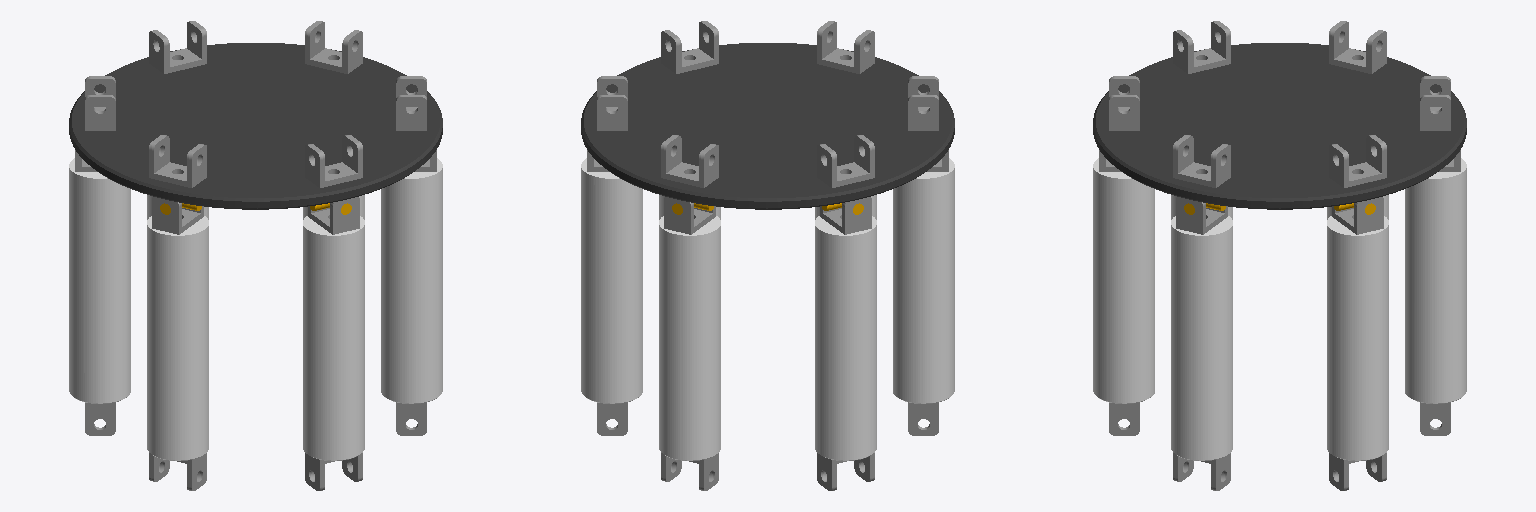
The robot description file, URDF, robot "stewart":
<?xml version="1.0"?>

<robot name="stewart">
  
  <!-- *************************************************** -->
  <!-- ******************** Kinematics ******************* -->
  <!-- *************************************************** -->
  <!-- Note the 'origin' tag in the joints defines the
       shift and reorientation before the continuous joint
       rotates around the 'axis'. -->

  <link name="world">
    <visual>
      <origin rpy="3.14159 0 0" xyz="0 0 0"/>
      <geometry>
        <mesh filename="package://finalprojectcode/meshes/Platform_Top.dae"/>
      </geometry>
    </visual>
  </link>

# LEG 1
  <joint name="leg1-pitch" type="continuous">
    <parent link="world"/>
    <child  link="leg1-uj-shaft"/>
    <origin xyz="0 1.25 -0.2" rpy="0 0 0"/>
    <axis   xyz="1 0 0"/>
  </joint>

  <link name="leg1-uj-shaft">
    <visual>
      <origin rpy="0 0 0" xyz="0 0 0"/>
      <geometry>
        <mesh filename="package://finalprojectcode/meshes/UJ_Shaft.dae"/>
      </geometry>
    </visual>
  </link>


  <joint name="leg1-roll" type="continuous">
    <parent link="leg1-uj-shaft"/>
    <child  link="leg1-slider-base"/>
    <origin xyz="0 0 0" rpy="0 0 0"/>
    <axis   xyz="0 1 0"/>
  </joint>

  <link name="leg1-slider-base">
    <visual>
      <origin rpy="3.14159 0 0" xyz="0 0 0"/>
      <geometry>
        <mesh filename="package://finalprojectcode/meshes/Slider_Base.dae"/>
      </geometry>
    </visual>
  </link>

  <joint name="leg1-prismatic" type="prismatic">
    <parent link="leg1-slider-base"/>
    <child  link="leg1-slider-shaft"/>
    <origin xyz="0 0 -0.4" rpy="0 0 0"/>
    <limit effort="1000.0" lower="0" upper="1.5" velocity="0.5"/>
    <axis   xyz="0 0 -1"/>
  </joint>

  <link name="leg1-slider-shaft">
    <visual>
      <origin rpy="3.14159 0 0" xyz="0 0 0"/>
      <geometry>
        <mesh filename="package://finalprojectcode/meshes/Slider_Shaft.dae"/>
      </geometry>
    </visual>
  </link>

  <joint name="leg1-to-tip" type="fixed">
    <parent link="leg1-slider-shaft"/>
    <child  link="leg1-tip"/>
    <origin xyz="0 0 0" rpy="0 0 0"/>
  </joint>

  <link name="leg1-tip"/>

##### LEG 2 #####

# -sin 60 sin 60 = x y
# rotate 60 deg for joint
  <joint name="leg2-pitch" type="continuous">
    <parent link="world"/>
    <child  link="leg2-uj-shaft"/>
    <origin xyz="-1.08253 0.625 -0.2" rpy="0 0 1.04719"/>
    <axis   xyz="1 0 0"/>
  </joint>

  <link name="leg2-uj-shaft">
    <visual>
      <origin rpy="0 0 0" xyz="0 0 0"/>
      <geometry>
        <mesh filename="package://finalprojectcode/meshes/UJ_Shaft.dae"/>
      </geometry>
    </visual>
  </link>


  <joint name="leg2-roll" type="continuous">
    <parent link="leg2-uj-shaft"/>
    <child  link="leg2-slider-base"/>
    <origin xyz="0 0 0" rpy="0 0 0"/>
    <axis   xyz="0 1 0"/>
  </joint>

  <link name="leg2-slider-base">
    <visual>
      <origin rpy="3.14159 0 0" xyz="0 0 0"/>
      <geometry>
        <mesh filename="package://finalprojectcode/meshes/Slider_Base.dae"/>
      </geometry>
    </visual>
  </link>

  <joint name="leg2-prismatic" type="prismatic">
    <parent link="leg2-slider-base"/>
    <child  link="leg2-slider-shaft"/>
    <origin xyz="0 0 -0.4" rpy="0 0 0"/>
    <limit effort="1000.0" lower="0" upper="1.5" velocity="0.5"/>
    <axis   xyz="0 0 -1"/>
  </joint>

  <link name="leg2-slider-shaft">
    <visual>
      <origin rpy="3.14159 0 0" xyz="0 0 0"/>
      <geometry>
        <mesh filename="package://finalprojectcode/meshes/Slider_Shaft.dae"/>
      </geometry>
    </visual>
  </link>

  <joint name="leg2-to-tip" type="fixed">
    <parent link="leg2-slider-shaft"/>
    <child  link="leg2-tip"/>
    <origin xyz="0 0 0" rpy="0 0 0"/>
  </joint>

  <link name="leg2-tip"/>
  
  ##### LEG 3
  
  # cos(240) sin (240) = y
  # rotate 120
  <joint name="leg3-pitch" type="continuous">
    <parent link="world"/>
    <child  link="leg3-uj-shaft"/>
    <origin xyz="-1.08253 -0.625 -0.2" rpy="0 0 2.094395"/>
    <axis   xyz="1 0 0"/>
  </joint>

  <link name="leg3-uj-shaft">
    <visual>
      <origin rpy="0 0 0" xyz="0 0 0"/>
      <geometry>
        <mesh filename="package://finalprojectcode/meshes/UJ_Shaft.dae"/>
      </geometry>
    </visual>
  </link>


  <joint name="leg3-roll" type="continuous">
    <parent link="leg3-uj-shaft"/>
    <child  link="leg3-slider-base"/>
    <origin xyz="0 0 0" rpy="0 0 0"/>
    <axis   xyz="0 1 0"/>
  </joint>

  <link name="leg3-slider-base">
    <visual>
      <origin rpy="3.14159 0 0" xyz="0 0 0"/>
      <geometry>
        <mesh filename="package://finalprojectcode/meshes/Slider_Base.dae"/>
      </geometry>
    </visual>
  </link>

  <joint name="leg3-prismatic" type="prismatic">
    <parent link="leg3-slider-base"/>
    <child  link="leg3-slider-shaft"/>
    <origin xyz="0 0 -0.4" rpy="0 0 0"/>
    <limit effort="1000.0" lower="0" upper="1.5" velocity="0.5"/>
    <axis   xyz="0 0 -1"/>
  </joint>

  <link name="leg3-slider-shaft">
    <visual>
      <origin rpy="3.14159 0 0" xyz="0 0 0"/>
      <geometry>
        <mesh filename="package://finalprojectcode/meshes/Slider_Shaft.dae"/>
      </geometry>
    </visual>
  </link>

  <joint name="leg3-to-tip" type="fixed">
    <parent link="leg3-slider-shaft"/>
    <child  link="leg3-tip"/>
    <origin xyz="0 0 0" rpy="0 0 0"/>
  </joint>

  <link name="leg3-tip"/>
  
  ##### LEG 4
  
  # 1.25sin(180) 1.25cos (180) = y
  # rotate 0 / 180
  <joint name="leg4-pitch" type="continuous">
    <parent link="world"/>
    <child  link="leg4-uj-shaft"/>
    <origin xyz="0 -1.25 -0.2" rpy="0 0 0"/>
    <axis   xyz="1 0 0"/>
  </joint>

  <link name="leg4-uj-shaft">
    <visual>
      <origin rpy="0 0 0" xyz="0 0 0"/>
      <geometry>
        <mesh filename="package://finalprojectcode/meshes/UJ_Shaft.dae"/>
      </geometry>
    </visual>
  </link>


  <joint name="leg4-roll" type="continuous">
    <parent link="leg4-uj-shaft"/>
    <child  link="leg4-slider-base"/>
    <origin xyz="0 0 0" rpy="0 0 0"/>
    <axis   xyz="0 1 0"/>
  </joint>

  <link name="leg4-slider-base">
    <visual>
      <origin rpy="3.14159 0 0" xyz="0 0 0"/>
      <geometry>
        <mesh filename="package://finalprojectcode/meshes/Slider_Base.dae"/>
      </geometry>
    </visual>
  </link>

  <joint name="leg4-prismatic" type="prismatic">
    <parent link="leg4-slider-base"/>
    <child  link="leg4-slider-shaft"/>
    <origin xyz="0 0 -0.4" rpy="0 0 0"/>
    <limit effort="1000.0" lower="0" upper="1.5" velocity="0.5"/>
    <axis   xyz="0 0 -1"/>
  </joint>

  <link name="leg4-slider-shaft">
    <visual>
      <origin rpy="3.14159 0 0" xyz="0 0 0"/>
      <geometry>
        <mesh filename="package://finalprojectcode/meshes/Slider_Shaft.dae"/>
      </geometry>
    </visual>
  </link>

  <joint name="leg4-to-tip" type="fixed">
    <parent link="leg4-slider-shaft"/>
    <child  link="leg4-tip"/>
    <origin xyz="0 0 0" rpy="0 0 0"/>
  </joint>

  <link name="leg4-tip"/>

  ##### LEG 5
  
  # 1.25sin(120) 1.25cos (120) = y
  # rotate 60
  <joint name="leg5-pitch" type="continuous">
    <parent link="world"/>
    <child  link="leg5-uj-shaft"/>
    <origin xyz="1.0825317 -0.625 -0.2" rpy="0 0 1.047197"/>
    <axis   xyz="1 0 0"/>
  </joint>

  <link name="leg5-uj-shaft">
    <visual>
      <origin rpy="0 0 0" xyz="0 0 0"/>
      <geometry>
        <mesh filename="package://finalprojectcode/meshes/UJ_Shaft.dae"/>
      </geometry>
    </visual>
  </link>


  <joint name="leg5-roll" type="continuous">
    <parent link="leg5-uj-shaft"/>
    <child  link="leg5-slider-base"/>
    <origin xyz="0 0 0" rpy="0 0 0"/>
    <axis   xyz="0 1 0"/>
  </joint>

  <link name="leg5-slider-base">
    <visual>
      <origin rpy="3.14159 0 0" xyz="0 0 0"/>
      <geometry>
        <mesh filename="package://finalprojectcode/meshes/Slider_Base.dae"/>
      </geometry>
    </visual>
  </link>

  <joint name="leg5-prismatic" type="prismatic">
    <parent link="leg5-slider-base"/>
    <child  link="leg5-slider-shaft"/>
    <origin xyz="0 0 -0.4" rpy="0 0 0"/>
    <limit effort="1000.0" lower="0" upper="1.5" velocity="0.5"/>
    <axis   xyz="0 0 -1"/>
  </joint>

  <link name="leg5-slider-shaft">
    <visual>
      <origin rpy="3.14159 0 0" xyz="0 0 0"/>
      <geometry>
        <mesh filename="package://finalprojectcode/meshes/Slider_Shaft.dae"/>
      </geometry>
    </visual>
  </link>

  <joint name="leg5-to-tip" type="fixed">
    <parent link="leg5-slider-shaft"/>
    <child  link="leg5-tip"/>
    <origin xyz="0 0 0" rpy="0 0 0"/>
  </joint>

  <link name="leg5-tip"/>
  
  
  ##### LEG 6
  
  # 1.25sin(60) 1.25cos (60) = y
  # rotate -60
  <joint name="leg6-pitch" type="continuous">
    <parent link="world"/>
    <child  link="leg6-uj-shaft"/>
    <origin xyz="1.0825317 0.625 -0.2" rpy="0 0 -1.047197"/>
    <axis   xyz="1 0 0"/>
  </joint>

  <link name="leg6-uj-shaft">
    <visual>
      <origin rpy="0 0 0" xyz="0 0 0"/>
      <geometry>
        <mesh filename="package://finalprojectcode/meshes/UJ_Shaft.dae"/>
      </geometry>
    </visual>
  </link>


  <joint name="leg6-roll" type="continuous">
    <parent link="leg6-uj-shaft"/>
    <child  link="leg6-slider-base"/>
    <origin xyz="0 0 0" rpy="0 0 0"/>
    <axis   xyz="0 1 0"/>
  </joint>

  <link name="leg6-slider-base">
    <visual>
      <origin rpy="3.14159 0 0" xyz="0 0 0"/>
      <geometry>
        <mesh filename="package://finalprojectcode/meshes/Slider_Base.dae"/>
      </geometry>
    </visual>
  </link>

  <joint name="leg6-prismatic" type="prismatic">
    <parent link="leg6-slider-base"/>
    <child  link="leg6-slider-shaft"/>
    <origin xyz="0 0 -0.4" rpy="0 0 0"/>
    <limit effort="1000.0" lower="0" upper="1.5" velocity="0.5"/>
    <axis   xyz="0 0 -1"/>
  </joint>

  <link name="leg6-slider-shaft">
    <visual>
      <origin rpy="3.14159 0 0" xyz="0 0 0"/>
      <geometry>
        <mesh filename="package://finalprojectcode/meshes/Slider_Shaft.dae"/>
      </geometry>
    </visual>
  </link>

  <joint name="leg6-to-tip" type="fixed">
    <parent link="leg6-slider-shaft"/>
    <child  link="leg6-tip"/>
    <origin xyz="0 0 0" rpy="0 0 0"/>
  </joint>

  <link name="leg6-tip"/>
  


  <!-- *************************************************** -->
  <!-- ********************* Graphics ******************** -->
  <!-- *************************************************** -->
  <!-- The following is purely to make this look roboticy. -->
  <!-- The 'origin' tag in the link/visual defines the
       center of the object (box, cylinder, sphere, mesh)
       but does not affect the joint chain kinematics. -->

  <!-- *************** Materials / Colors **************** -->

  <material name="white">    <color rgba="1.00 1.00 1.00 1"/>  </material>
  <material name="gray">     <color rgba="0.60 0.60 0.60 1"/>  </material>
  <material name="table">    <color rgba="0.85 0.77 0.77 1"/>  </material>
  <material name="black">    <color rgba="0.00 0.00 0.00 1"/>  </material>

  <material name="red">      <color rgba="1.00 0.00 0.00 1"/>  </material>
  <material name="green">    <color rgba="0.00 1.00 0.00 1"/>  </material>
  <material name="blue">     <color rgba="0.00 0.00 1.00 1"/>  </material>

  <material name="cyan">     <color rgba="0.00 1.00 1.00 1"/>  </material>
  <material name="magenta">  <color rgba="1.00 0.00 1.00 1"/>  </material>
  <material name="yellow">   <color rgba="1.00 1.00 0.00 1"/>  </material>

  <material name="orange">   <color rgba="1.00 0.65 0.00 1"/>  </material>
  
</robot>

--- Render facts (derived) ---
3 views of the same robot in one strip: view 1: azimuth 30°, elevation 25°; view 2: azimuth 150°, elevation 25°; view 3: azimuth 270°, elevation 25° (orthographic).
Robot: stewart — 25 links, 24 joints (12 continuous, 6 prismatic, 6 fixed); root link world; default pose: all joints at 0.
Links seen in each view (by area): view 1: world, leg3-slider-base, leg4-slider-base, leg5-slider-base, leg2-slider-base, leg3-slider-shaft, leg4-slider-shaft, leg2-slider-shaft, leg5-slider-shaft; view 2: world, leg1-slider-base, leg2-slider-base, leg3-slider-base, leg6-slider-base, leg1-slider-shaft, leg2-slider-shaft, leg3-slider-shaft, leg6-slider-shaft; view 3: world, leg5-slider-base, leg6-slider-base, leg1-slider-base, leg4-slider-base, leg5-slider-shaft, leg6-slider-shaft, leg1-slider-shaft, leg4-slider-shaft.
Link boxes in pixels (x1,y1,x2,y2): world: [69, 21, 442, 209]; leg3-slider-base: [147, 197, 208, 460]; leg4-slider-base: [303, 197, 364, 460]; leg5-slider-base: [381, 150, 442, 403]; leg2-slider-base: [69, 150, 130, 403]; leg3-slider-shaft: [149, 453, 206, 490]; leg4-slider-shaft: [305, 453, 362, 490]; leg2-slider-shaft: [85, 402, 115, 435]; leg5-slider-shaft: [396, 402, 426, 435]; world: [581, 21, 954, 209]; leg1-slider-base: [659, 197, 720, 460]; leg2-slider-base: [815, 197, 876, 460]; leg3-slider-base: [893, 150, 954, 403]; leg6-slider-base: [581, 150, 642, 403]; leg1-slider-shaft: [661, 453, 718, 490]; leg2-slider-shaft: [817, 453, 874, 490]; leg3-slider-shaft: [908, 402, 938, 435]; leg6-slider-shaft: [597, 402, 627, 435]; world: [1093, 21, 1466, 209]; leg5-slider-base: [1171, 197, 1232, 460]; leg6-slider-base: [1327, 197, 1388, 460]; leg1-slider-base: [1405, 150, 1466, 403]; leg4-slider-base: [1093, 150, 1154, 403]; leg5-slider-shaft: [1173, 453, 1230, 490]; leg6-slider-shaft: [1329, 453, 1386, 490]; leg1-slider-shaft: [1420, 402, 1450, 435]; leg4-slider-shaft: [1109, 402, 1139, 435].
Bounding box of the posed robot: 3 × 3 × 3 m (x, y, z).
Meshes: 4 distinct files referenced, 19 mesh visuals loaded (4 Collada DAE).
